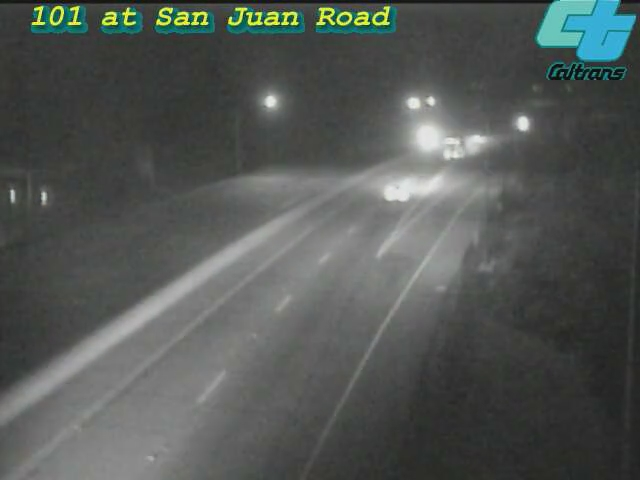vehicle: (356, 150, 436, 230), (403, 112, 453, 162), (501, 98, 551, 148), (457, 113, 507, 163), (432, 123, 482, 173)
